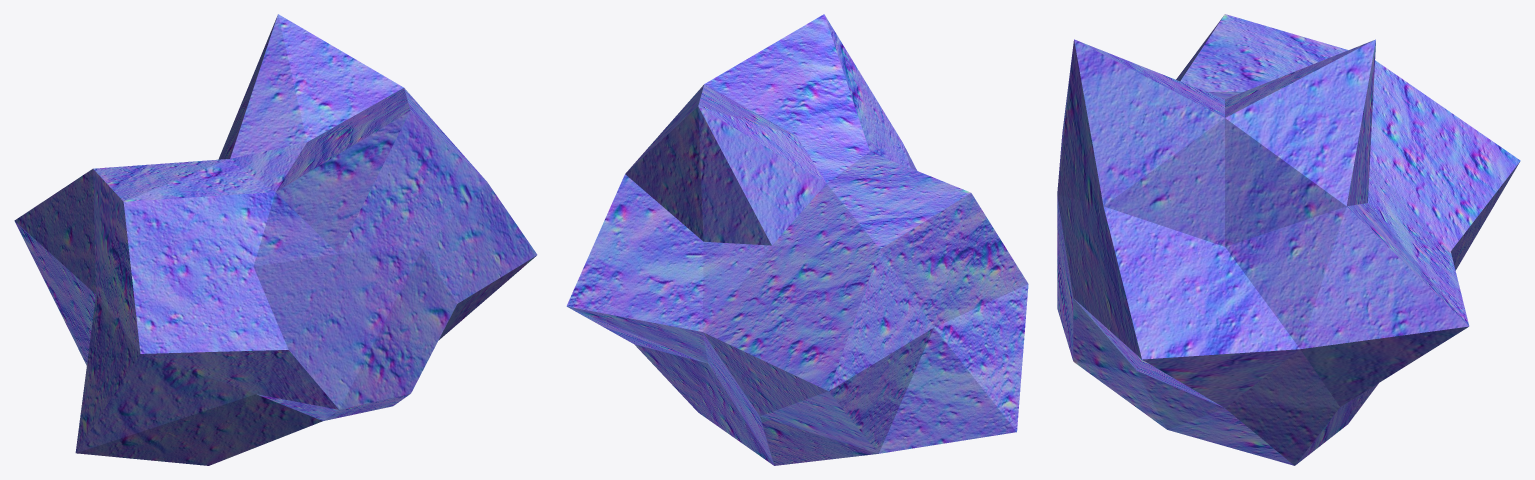
File: bigasteroid10_LOD4.fbx
3 renders of one model, left to right at view 1: azimuth 30°, elevation 25°; view 2: azimuth 150°, elevation 25°; view 3: azimuth 270°, elevation 25°, orthographic. The views are drawn at different scales.
Visible parts, largest first — view 1: Icosphere; view 2: Icosphere; view 3: Icosphere.
Part boxes in pixels (box(x1,y1,x2,y2)): Icosphere: box(14, 14, 537, 465); Icosphere: box(566, 14, 1028, 465); Icosphere: box(1057, 14, 1520, 465).
Bounding box in the file's own units: 334 × 278 × 276.
